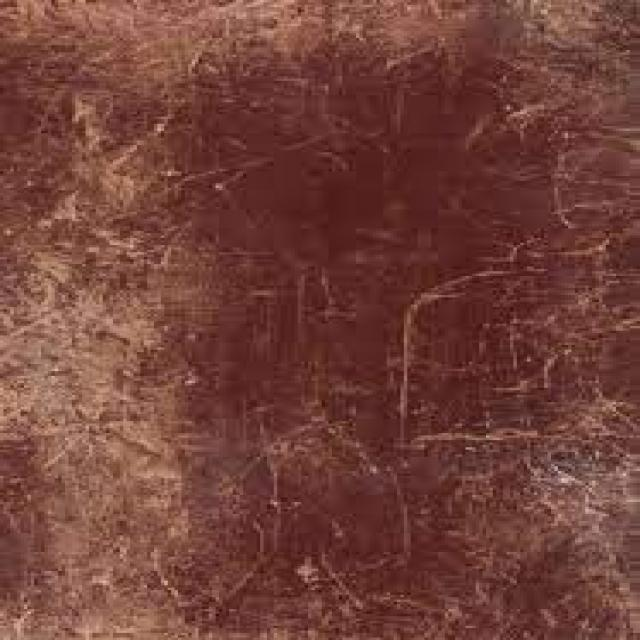Rotten surface: (29, 223, 247, 562), (466, 240, 632, 587), (69, 13, 568, 115)
